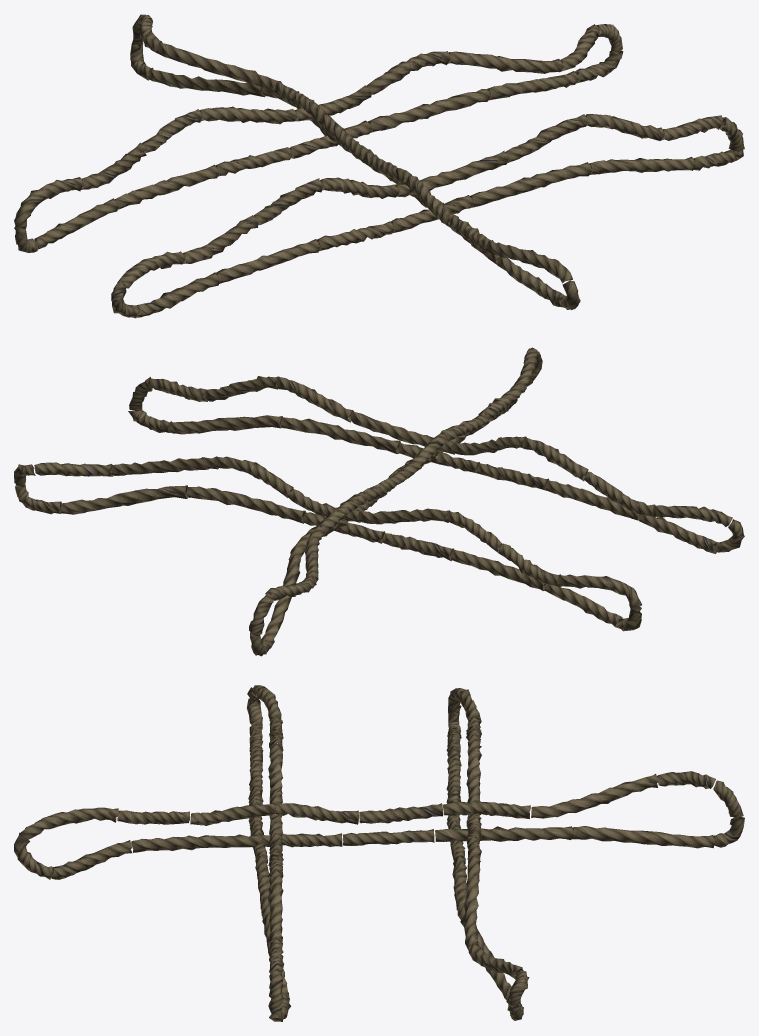
File: SM_Rope_Tower.fbx
3 renders of one model, top to bottom at view 1: azimuth 30°, elevation 25°; view 2: azimuth 150°, elevation 25°; view 3: azimuth 270°, elevation 25°, orthographic. The views are drawn at different scales.
Visible parts, largest first — view 1: SM_Rope_Tower_LOD0; view 2: SM_Rope_Tower_LOD0; view 3: SM_Rope_Tower_LOD0.
Part boxes in pixels (x1,y1,x2,y2): SM_Rope_Tower_LOD0: (14, 14, 744, 318); SM_Rope_Tower_LOD0: (14, 347, 744, 656); SM_Rope_Tower_LOD0: (14, 685, 744, 1021).
Size of the model in its own units: 323 by 325 by 44.2.
1 material, 1 textured.
